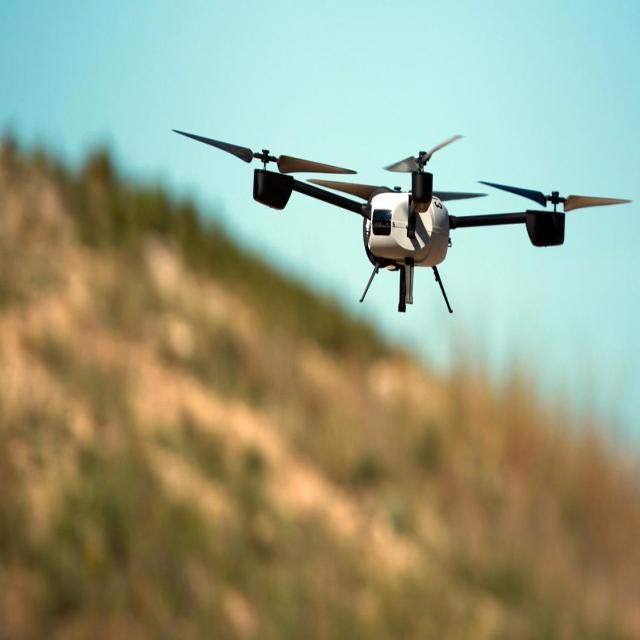drone: (170, 124, 636, 316)
